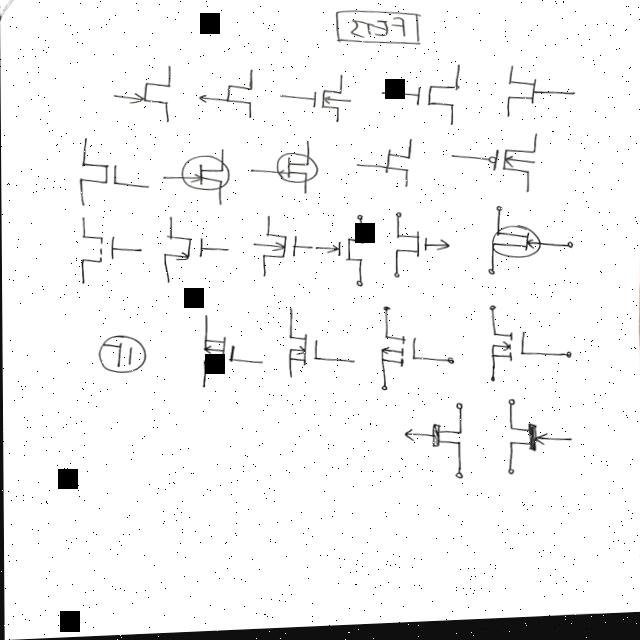mosfet: (474, 317, 562, 379), (384, 67, 474, 126), (455, 141, 544, 198), (395, 417, 484, 470), (374, 314, 439, 384), (189, 319, 255, 387), (59, 220, 133, 279), (490, 415, 560, 475), (380, 222, 455, 274), (477, 218, 546, 270), (193, 71, 265, 120), (282, 315, 338, 376), (71, 144, 133, 199), (246, 223, 311, 275), (489, 66, 547, 122), (174, 155, 246, 200), (149, 225, 212, 275), (291, 80, 359, 125), (122, 69, 178, 119), (325, 226, 375, 280), (265, 148, 325, 192), (368, 143, 417, 185)
